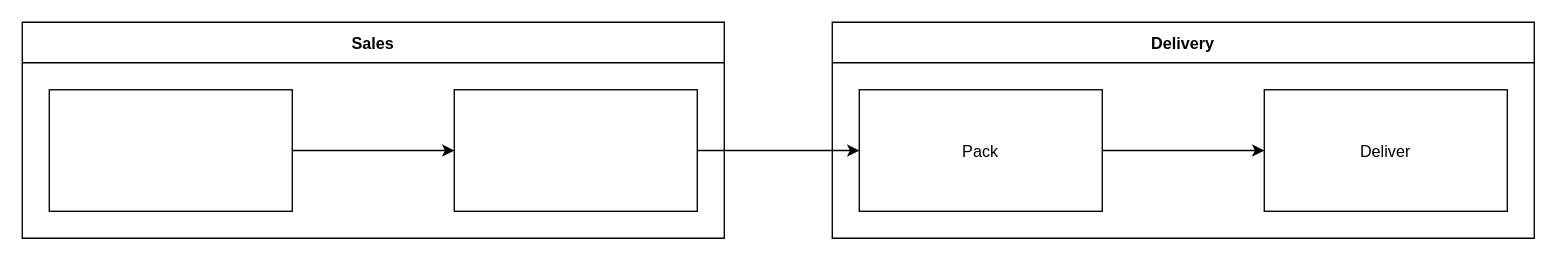
Image size: 1557x261. Some labels were removed from this diagram. Each missing label, with the box of its shape:
Order: (453, 88, 697, 211)
Quote: (48, 88, 292, 211)
